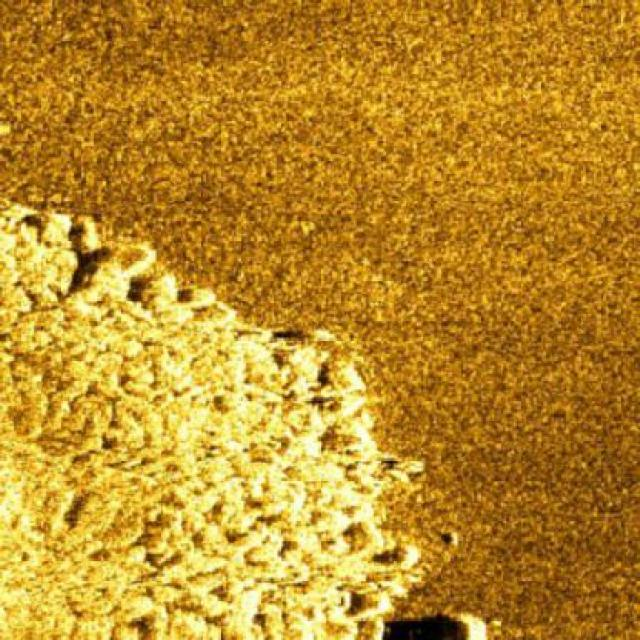bedrock group: (0, 192, 491, 639)
